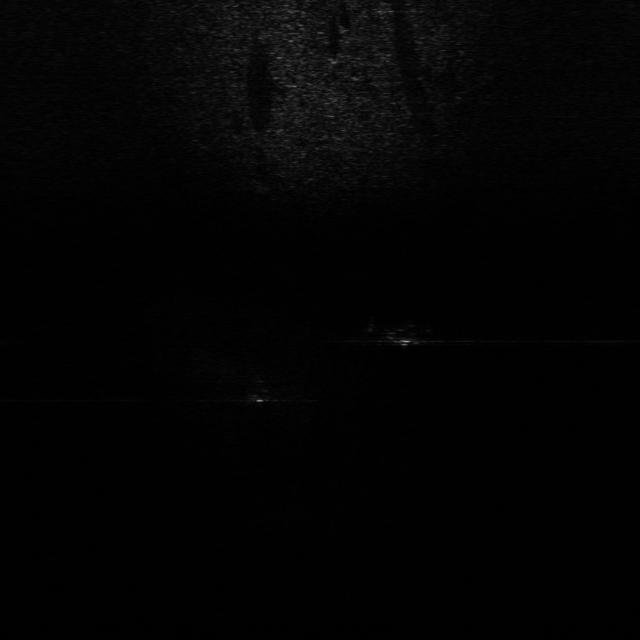ball: (240, 382, 276, 412)
human body: (358, 313, 444, 353)
